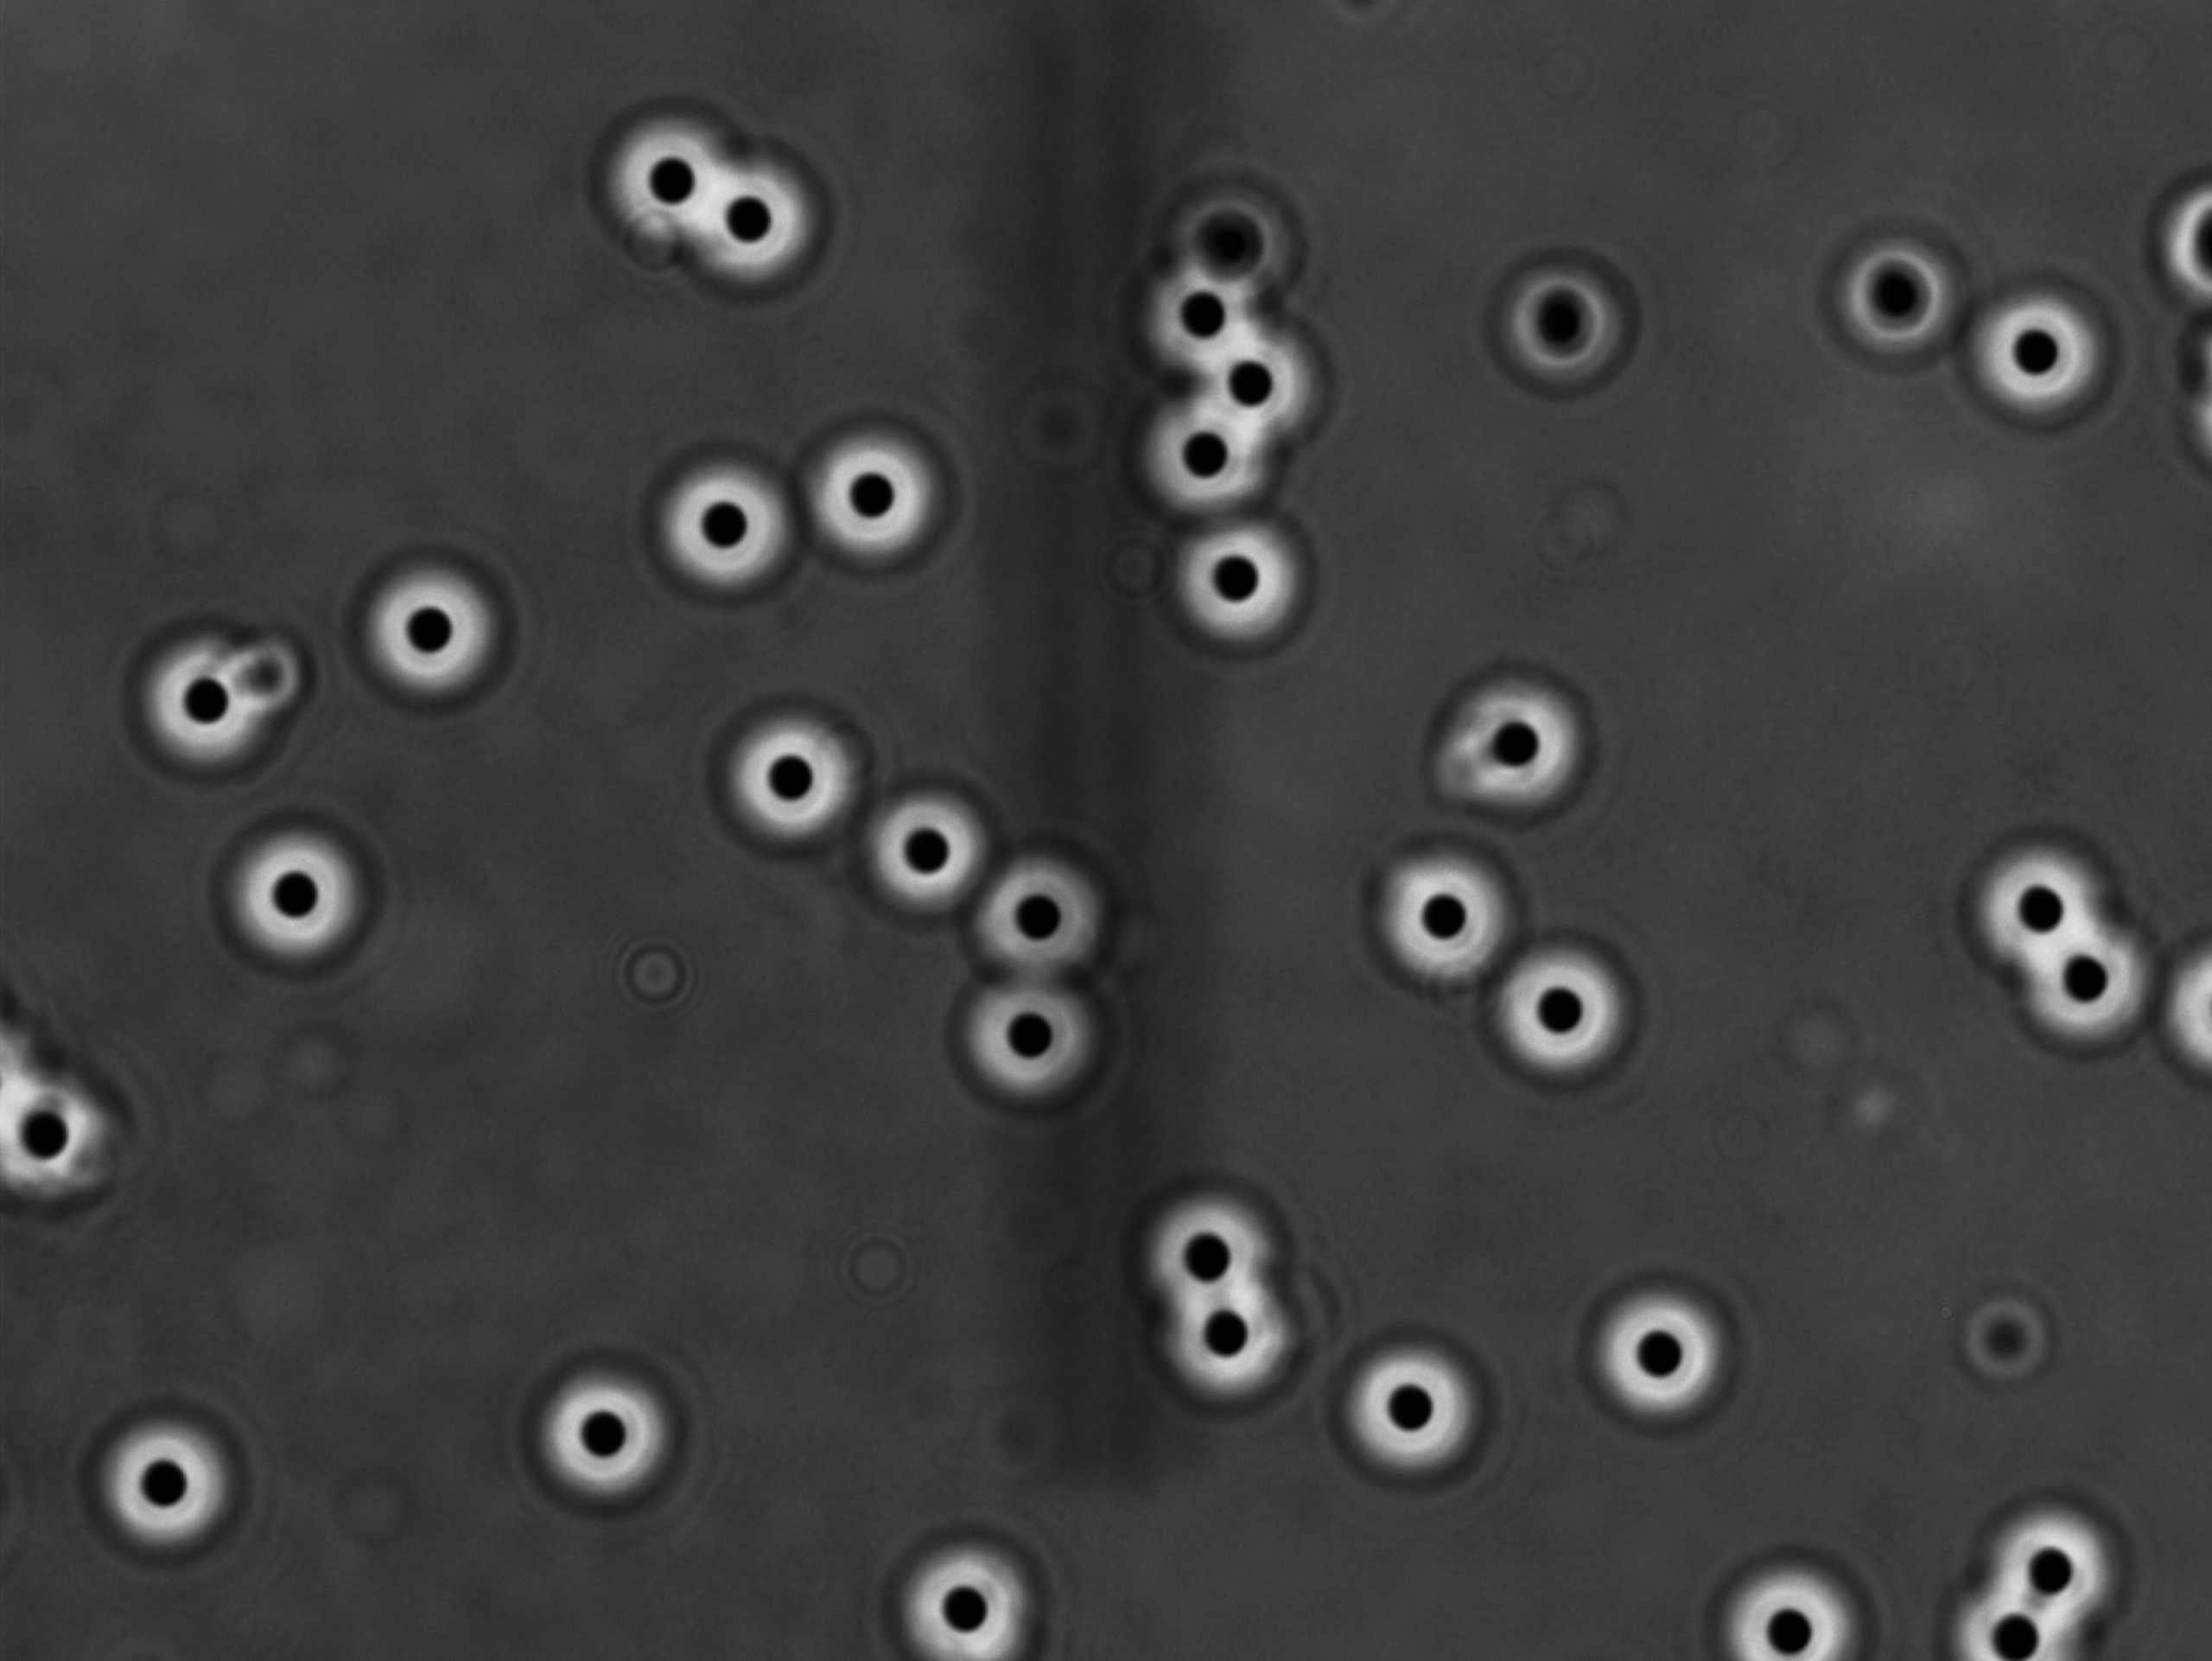depth:-40: (1420, 654, 1607, 836), (707, 696, 898, 872), (330, 534, 518, 710), (1317, 1312, 1504, 1488), (208, 817, 398, 988), (940, 953, 1122, 1129), (117, 616, 305, 785), (1570, 1270, 1751, 1445), (72, 1389, 255, 1562), (619, 443, 802, 616), (1345, 822, 1526, 995), (518, 1345, 707, 1511), (794, 407, 966, 581), (1959, 258, 2120, 438), (679, 136, 846, 304), (1963, 829, 2133, 989), (1481, 932, 1640, 1103), (952, 839, 1123, 998), (860, 1520, 1052, 1661), (1122, 1174, 1298, 1323), (1123, 237, 1287, 394), (839, 776, 1003, 930), (591, 99, 748, 258), (2020, 909, 2181, 1064), (1151, 511, 1321, 656), (1176, 314, 1340, 457), (1120, 379, 1289, 516), (1151, 1272, 1308, 1406)
